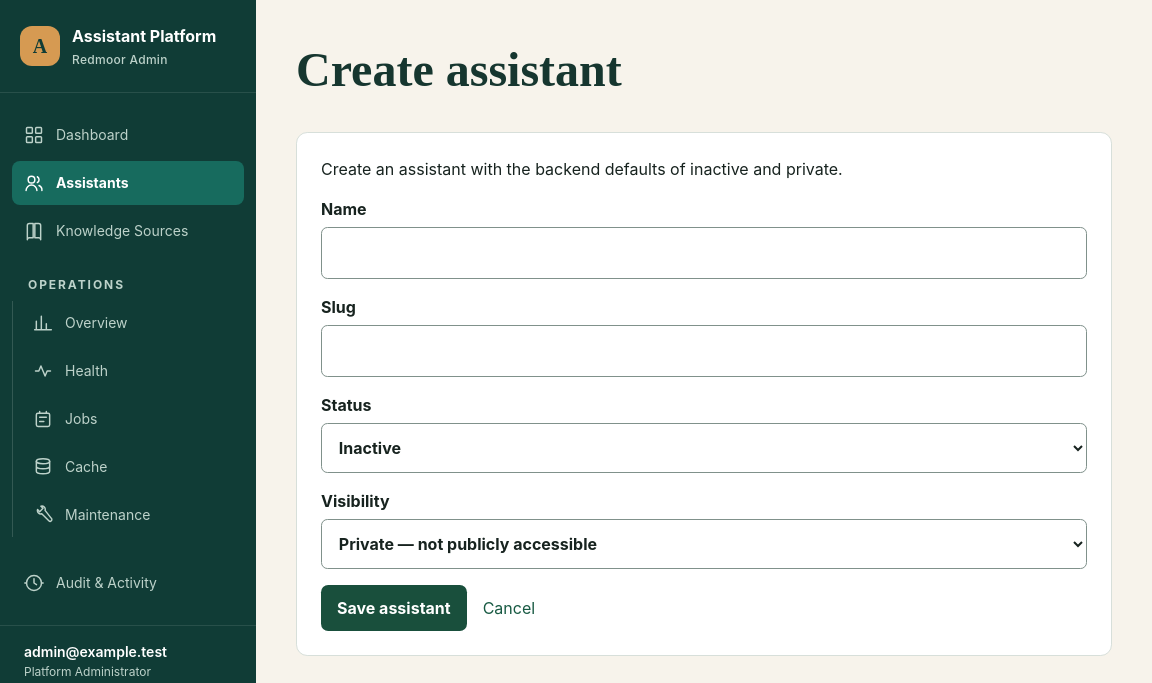
Test: administrator application workflows › retains form values after backend validation rejection
Type "Legal review" into the field labelled "Name" at [704, 253], box [321,227,1087,279]
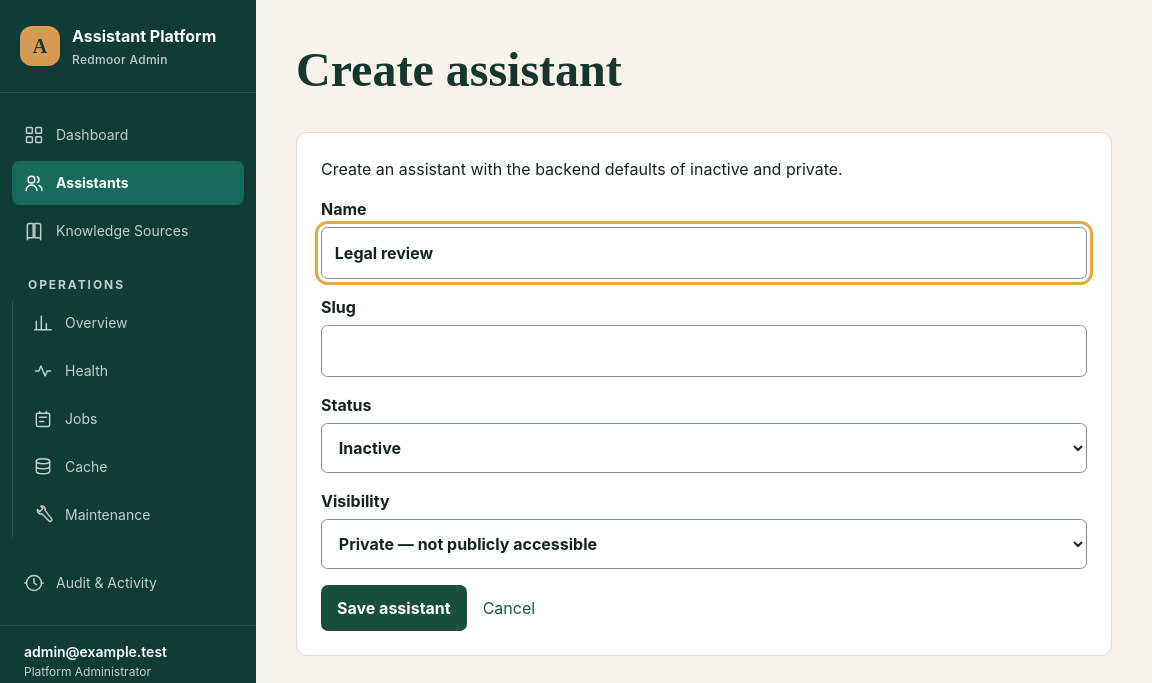
Type "legal-review" into the field labelled "Slug" at [704, 351], box [321,325,1087,377]
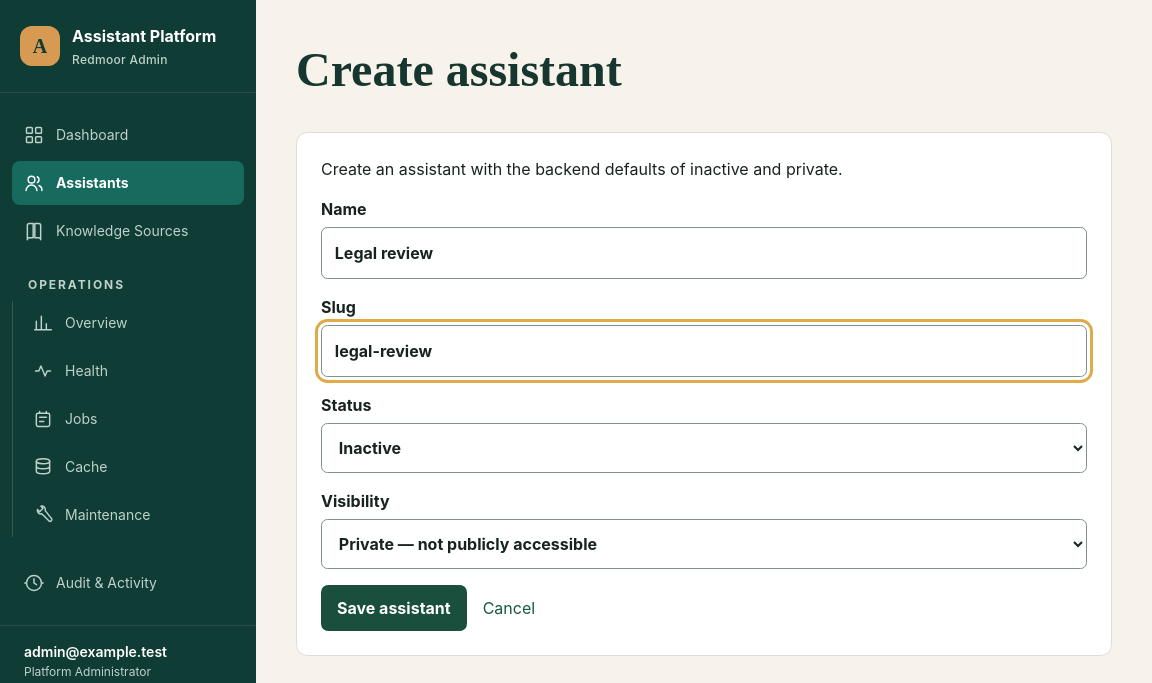
Click the button "Save assistant" at [394, 608], box [321,585,467,631]
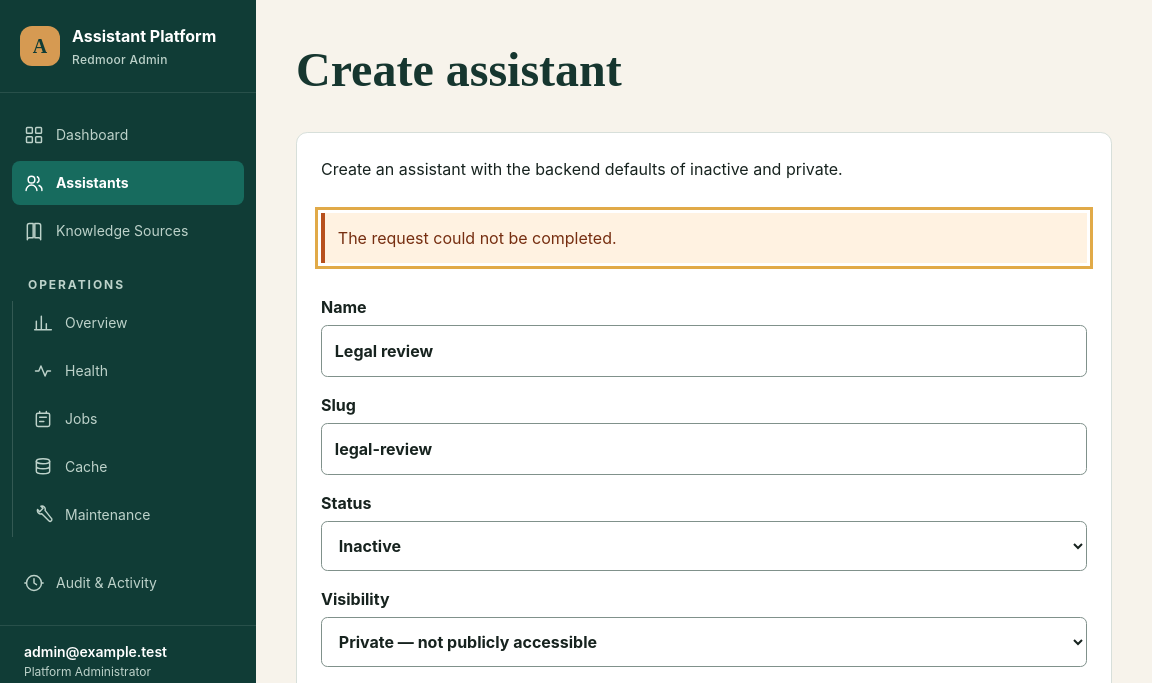
expect the message shows "request could not be completed": met, box [338,228,617,248]
